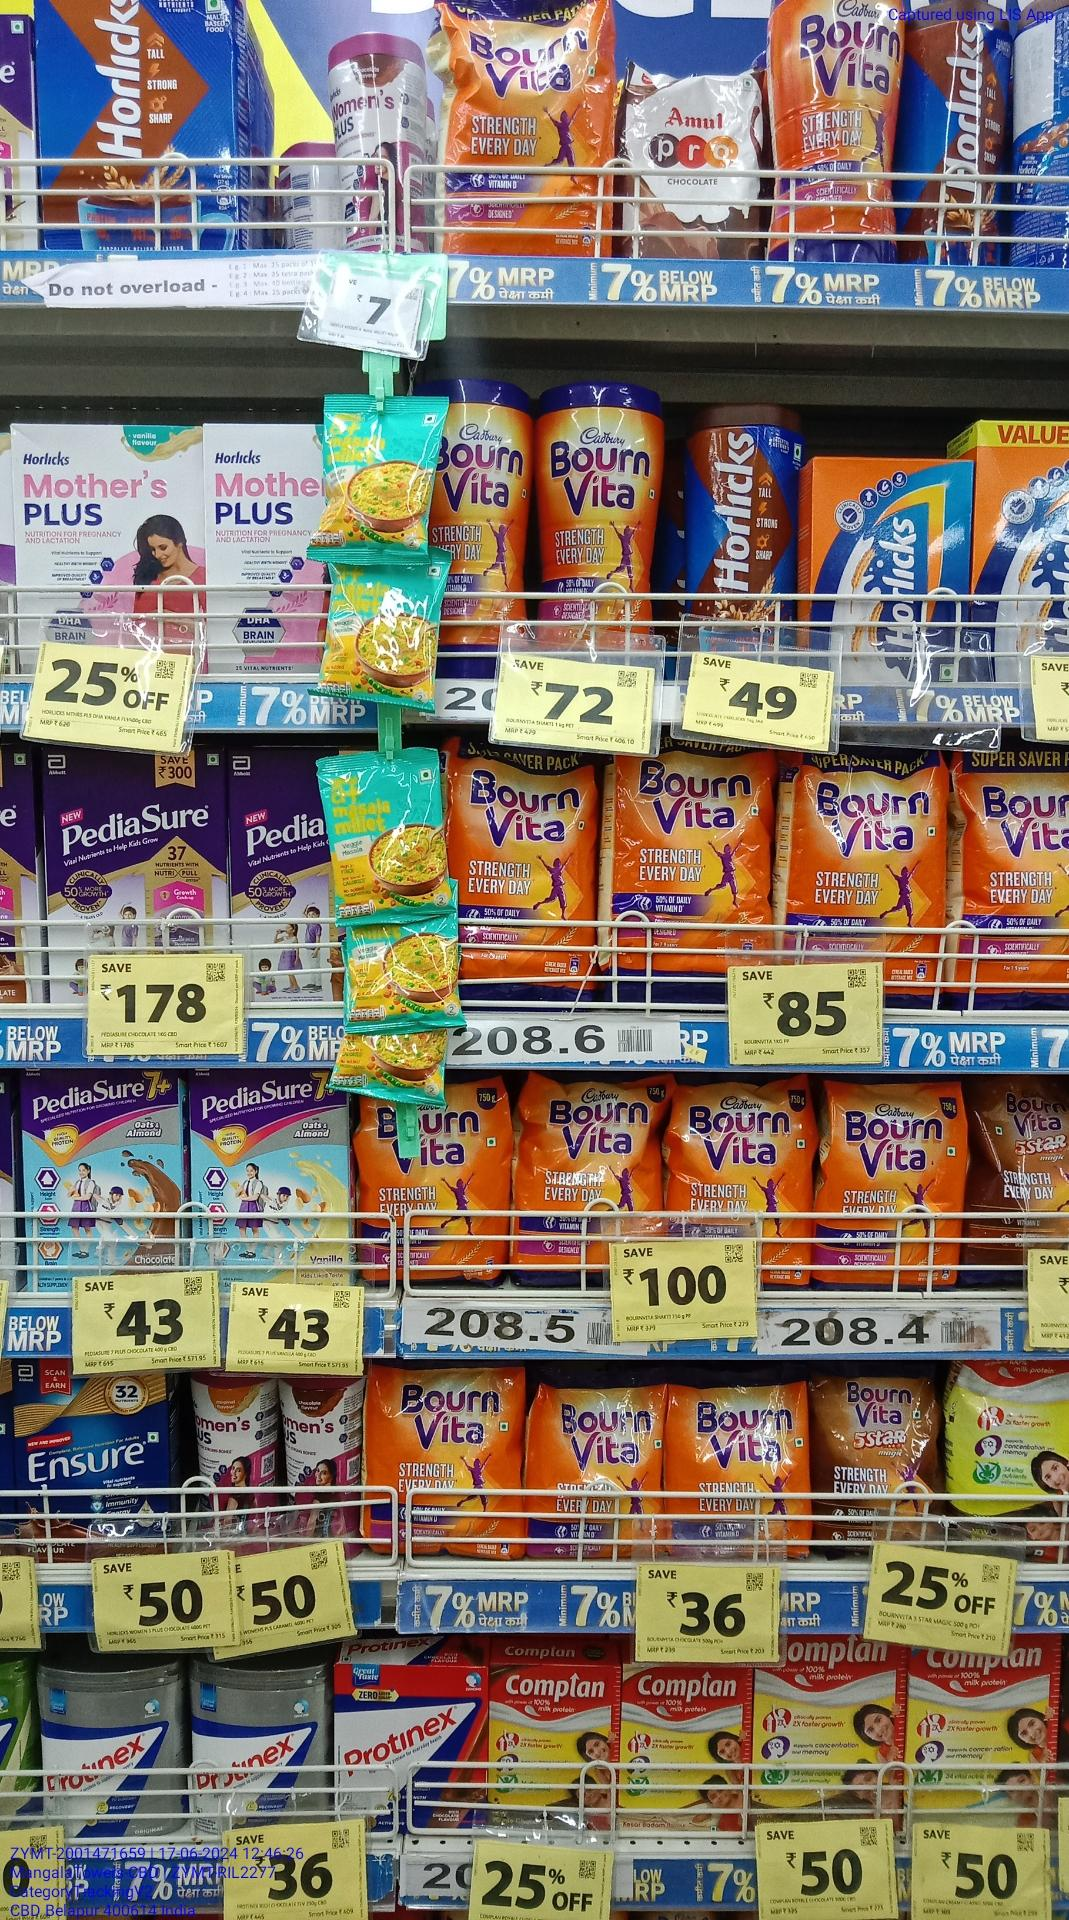BOURN_VITA_1_KG_JAR: (766, 0, 895, 263)
BOURN_VITA_500_G_JAR: (544, 386, 657, 644), (445, 383, 541, 641)
BOURN_VITA_500_G_POUCH: (369, 1365, 519, 1557), (667, 1380, 811, 1559), (529, 1370, 658, 1562)
BOURN_VITA_750_G_POUCH: (453, 0, 616, 258), (602, 761, 771, 966), (456, 750, 588, 995), (823, 1083, 972, 1295), (794, 759, 945, 967), (954, 750, 1069, 1011), (355, 1098, 506, 1286), (513, 1078, 664, 1240), (671, 1083, 814, 1240)
BOURN_VITA_FIVE_STAR_MAGIC_500_G_POUCH: (814, 1370, 947, 1541)
COMPLAN_CHOCOLATE_200_GMS_PACK: (491, 1663, 616, 1833)
COMPLAN_CHOCOLATE_500_GMS_PACK: (756, 1673, 907, 1820)
COMPLAN_CREAMY_CLASSIC_500_G_PACK: (911, 1648, 1058, 1821)
COMPLAN_KESAR_BADAM_500_GMS_PACK: (625, 1667, 748, 1837)
COMPLAN_RC_POUCH_700_GMS_12: (948, 1363, 1069, 1546)
HORLICK_CHOCOLATE_1_KG_JAR: (900, 16, 1006, 266)
HORLICK_CHOCOLATE_1_KG_PACK: (33, 0, 241, 253)
HORLICK_CHOCOLATE_500_G_JAR: (685, 408, 803, 640)
HORLICK_CLASSIC_MALT_500_G_PACK: (814, 459, 964, 686)
PROTINEX_ORIGINAL_400_G_JAR: (42, 1669, 179, 1840), (191, 1665, 333, 1823)
